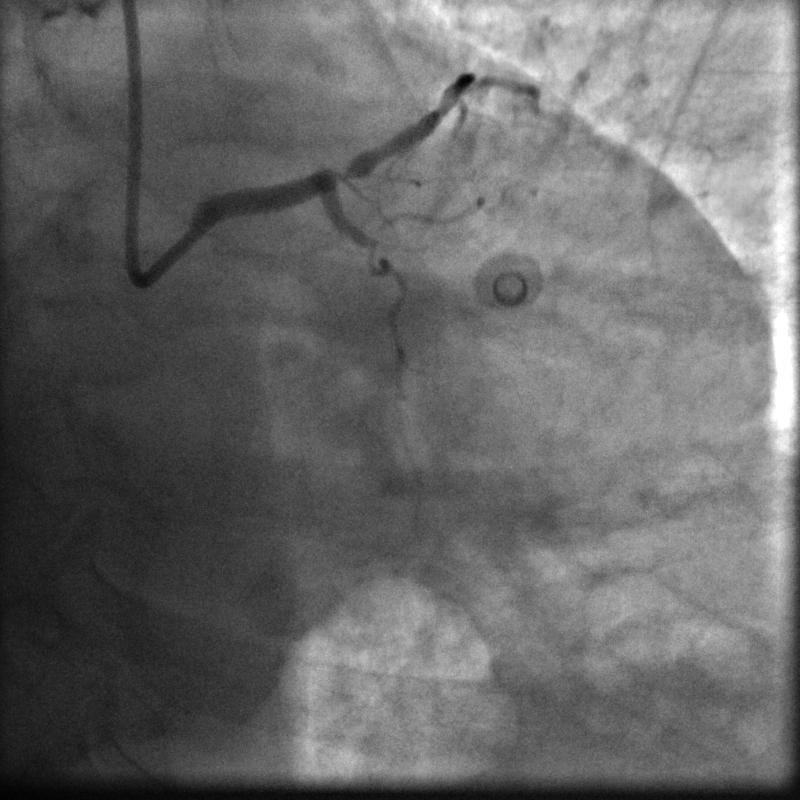Stenosis: (324, 153, 362, 182)
